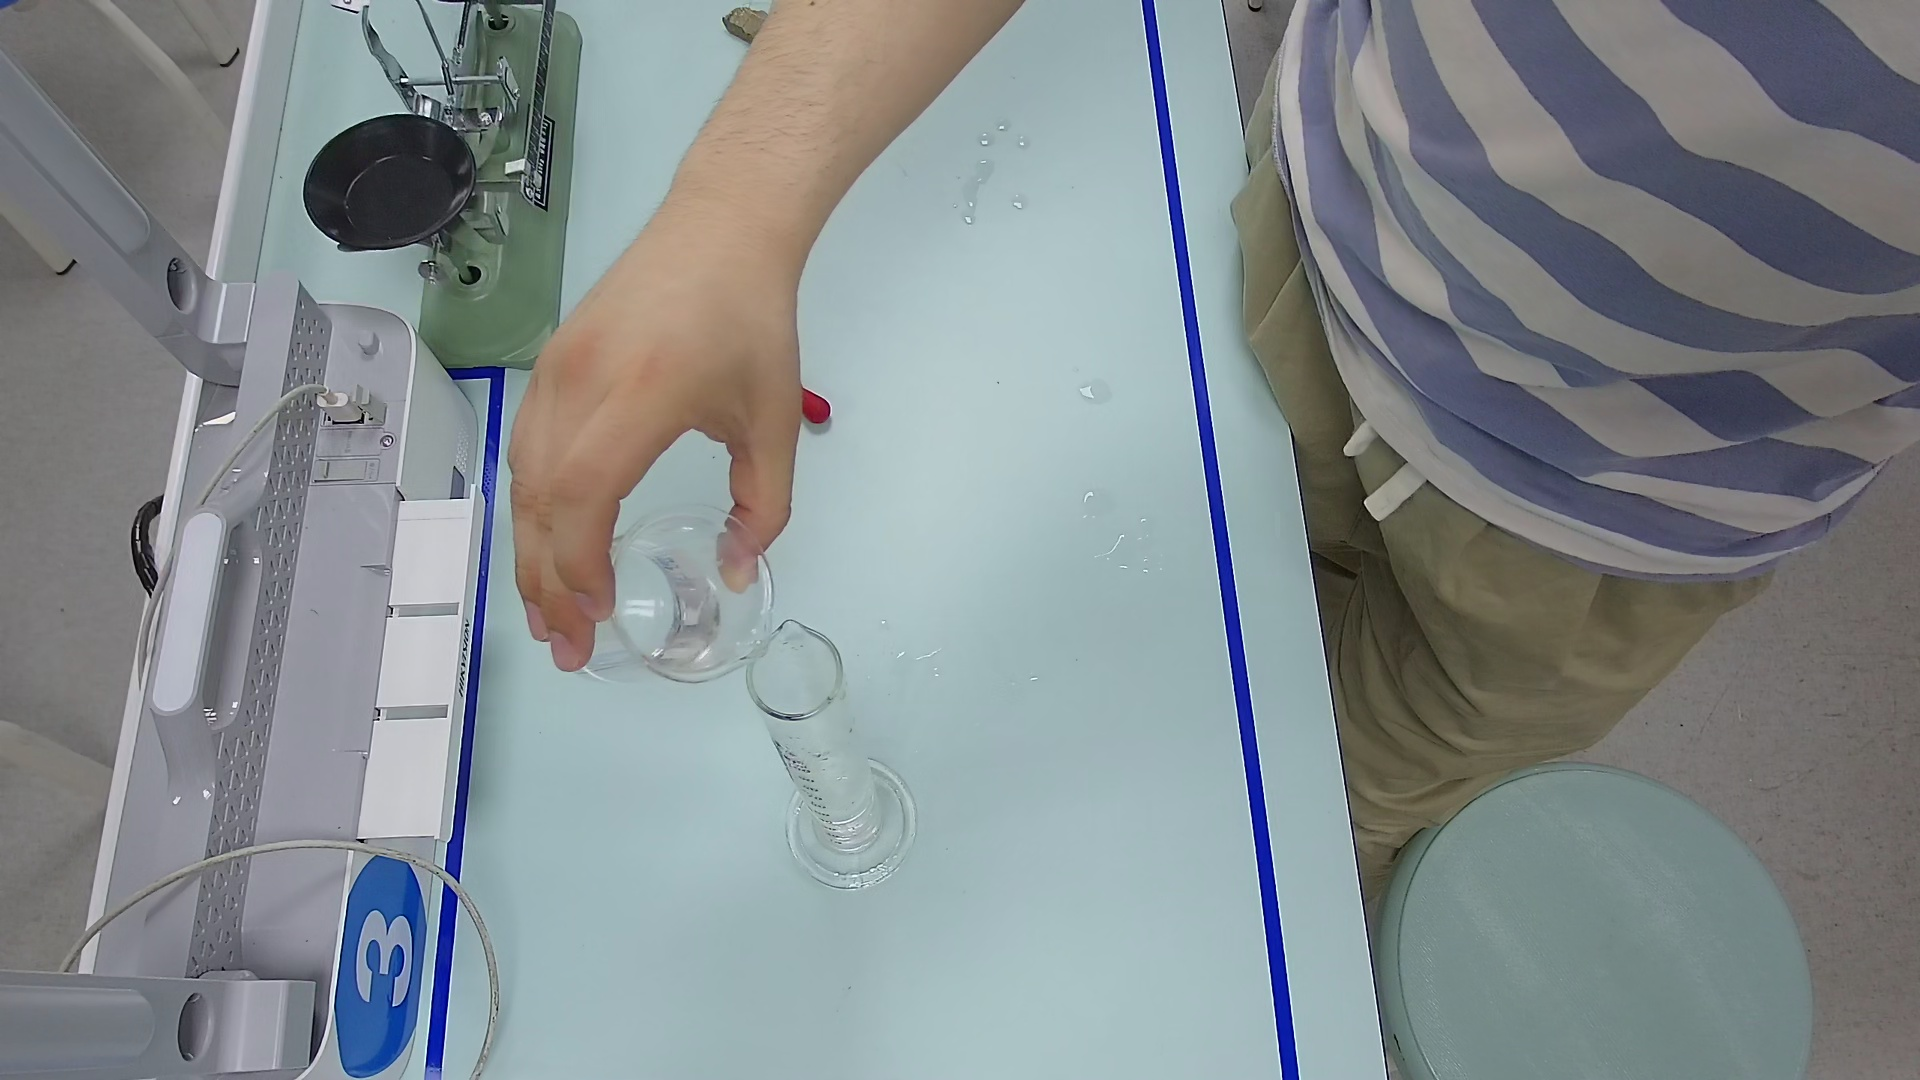ao: (804, 774, 870, 827)
bei: (596, 498, 761, 696)
diguantou: (783, 378, 849, 425)
hand: (497, 297, 827, 638)
liangdi: (785, 774, 913, 891)
liangtong: (753, 611, 914, 897)
shi: (723, 1, 771, 51)
tuo: (295, 115, 463, 256)
